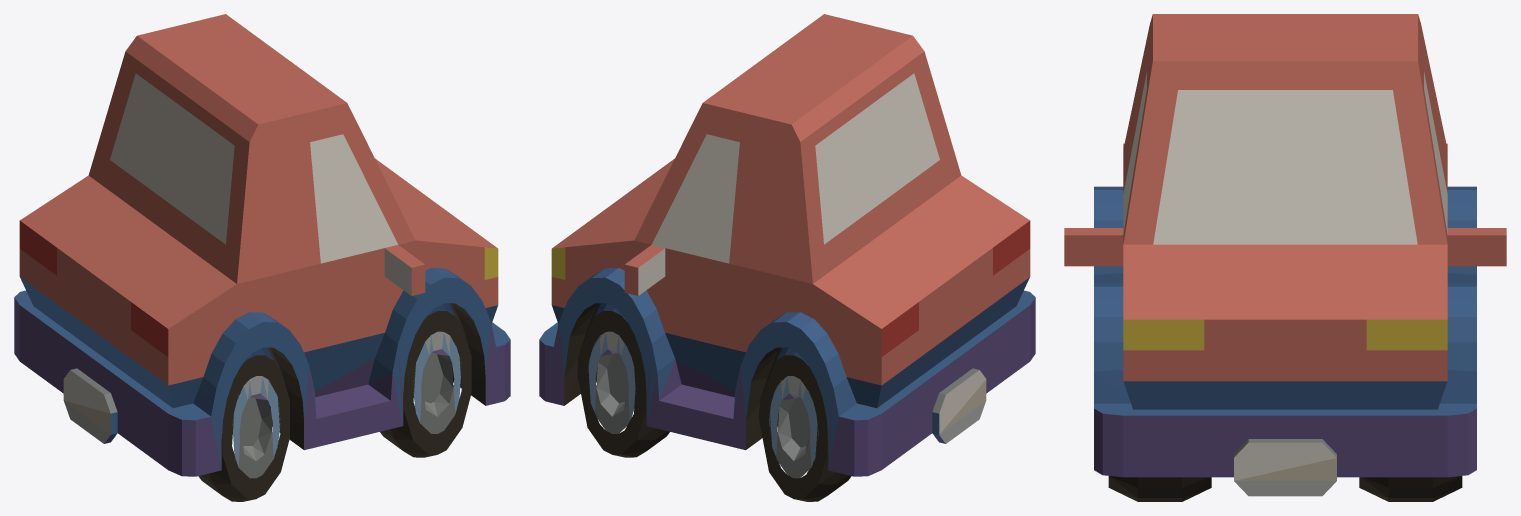
File: sedan.glb
3 renders of one model, left to right at view 1: azimuth 30°, elevation 25°; view 2: azimuth 150°, elevation 25°; view 3: azimuth 270°, elevation 25°, orthographic. The views are drawn at different scales.
Bounding box in the file's own units: 1 × 1 × 1.
